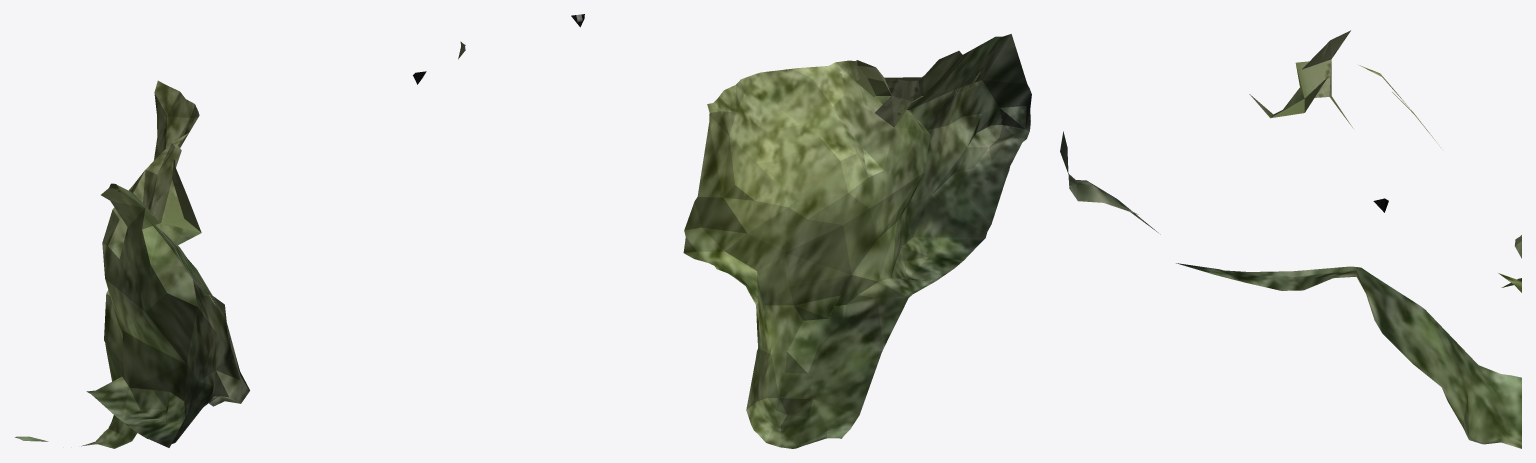
3 renders of one model, left to right at view 1: azimuth 30°, elevation 25°; view 2: azimuth 150°, elevation 25°; view 3: azimuth 270°, elevation 25°, orthographic. The views are drawn at different scales.
Bounding box in the file's own units: 2.95 × 2.39 × 2.56.
Materials: 2 (2 with a texture image).
